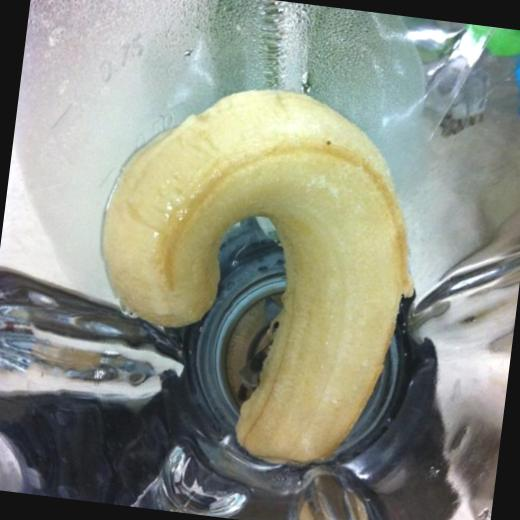Banana: (79, 81, 406, 402)
